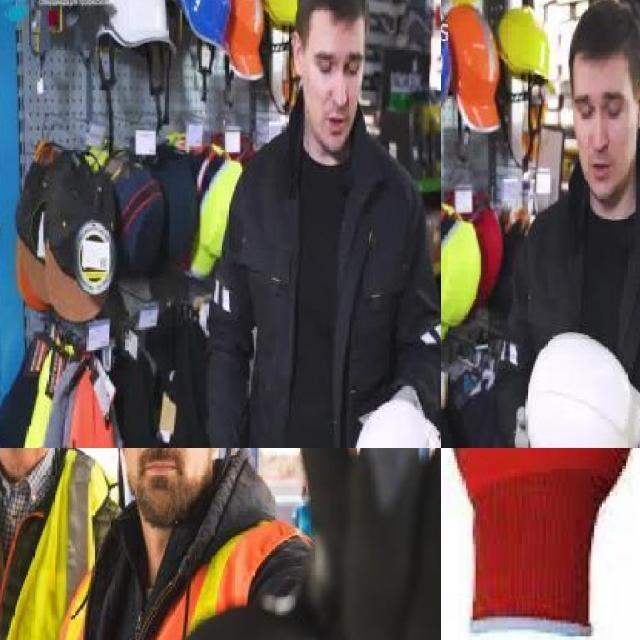apron: (254, 448, 441, 640), (441, 448, 640, 572), (512, 404, 530, 448)
